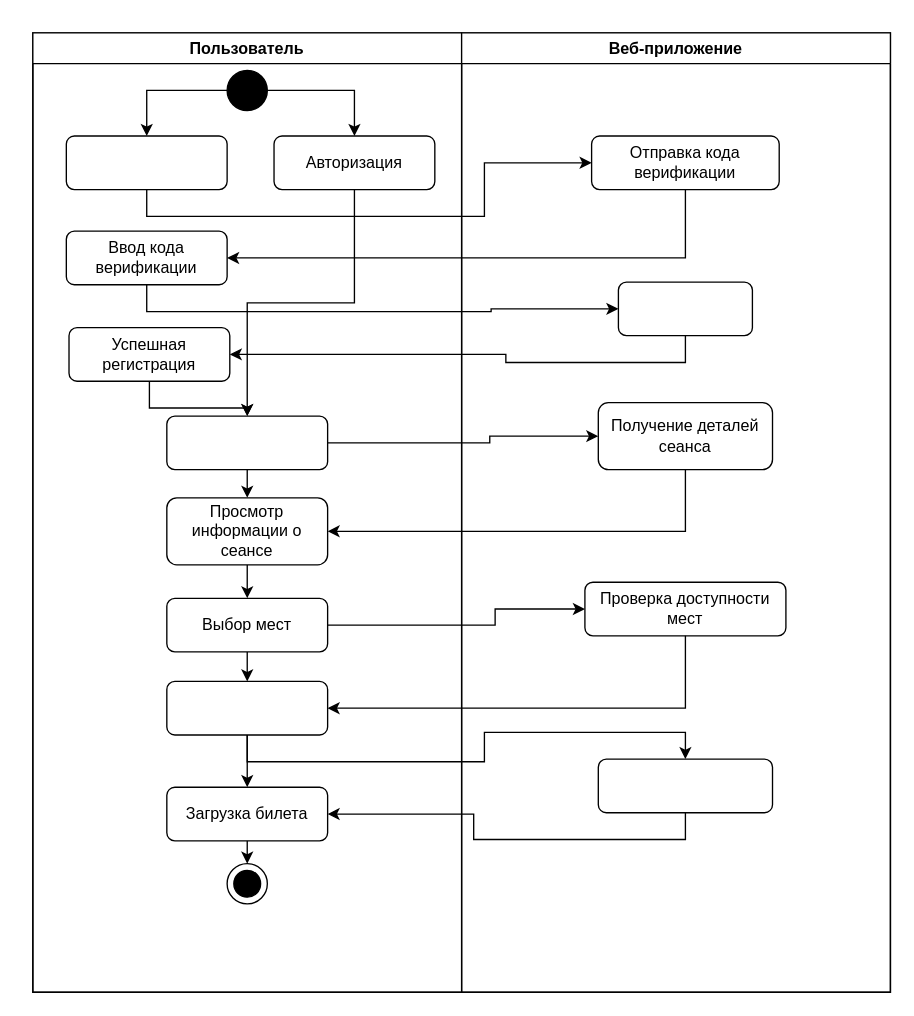
This 914x1016 diagram has some shape labels left out. Each missing label, with the box of its shape:
Генерация PDF-билета: (597, 758, 773, 813)
Покупка билета: (165, 680, 328, 735)
Проверка кода: (617, 281, 752, 336)
Просмотр сеансов: (165, 415, 328, 470)
Регистрация: (65, 135, 227, 190)
